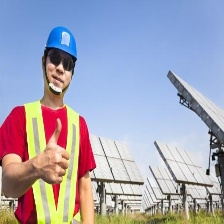person: (0, 28, 94, 224)
